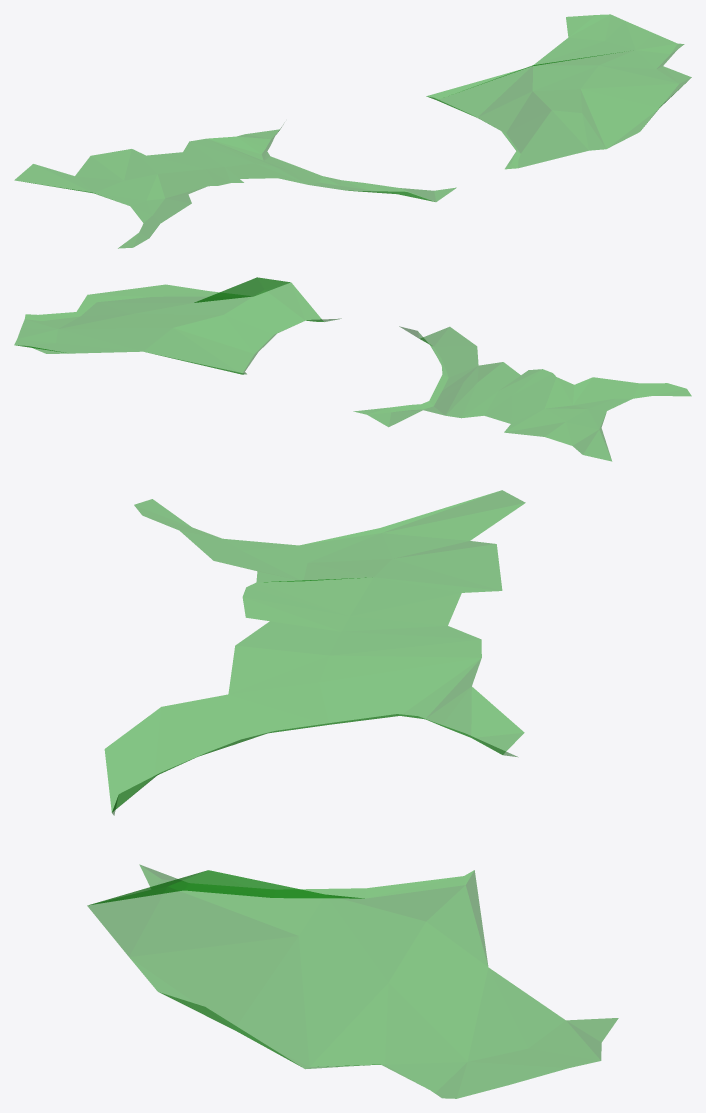
The model's file is wall1.obj.
3 renders of one model, top to bottom at view 1: azimuth 30°, elevation 25°; view 2: azimuth 150°, elevation 25°; view 3: azimuth 270°, elevation 25°, orthographic. The views are drawn at different scales.
Bounding box in the file's own units: 161 × 9.09 × 61.64.
